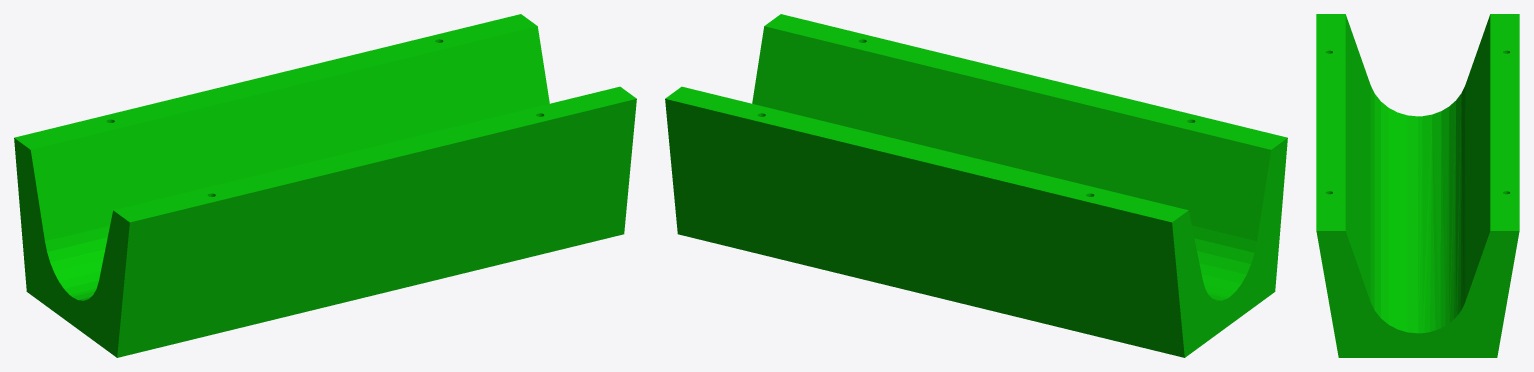
File: piece2.dae
3 views of the same model, side by side, from view 1: azimuth 30°, elevation 25°; view 2: azimuth 150°, elevation 25°; view 3: azimuth 270°, elevation 25° (orthographic). The views are drawn at different scales.
Parts seen in each view (by area): view 1: ShapeIndexedFaceSet_004; view 2: ShapeIndexedFaceSet_004; view 3: ShapeIndexedFaceSet_004.
Boxes of the visible parts, bbox=[...] form: ShapeIndexedFaceSet_004: bbox=[14, 14, 636, 357]; ShapeIndexedFaceSet_004: bbox=[665, 14, 1287, 357]; ShapeIndexedFaceSet_004: bbox=[1316, 14, 1519, 357].
Bounding box in the file's own units: 1.14 × 0.4495 × 0.31.
